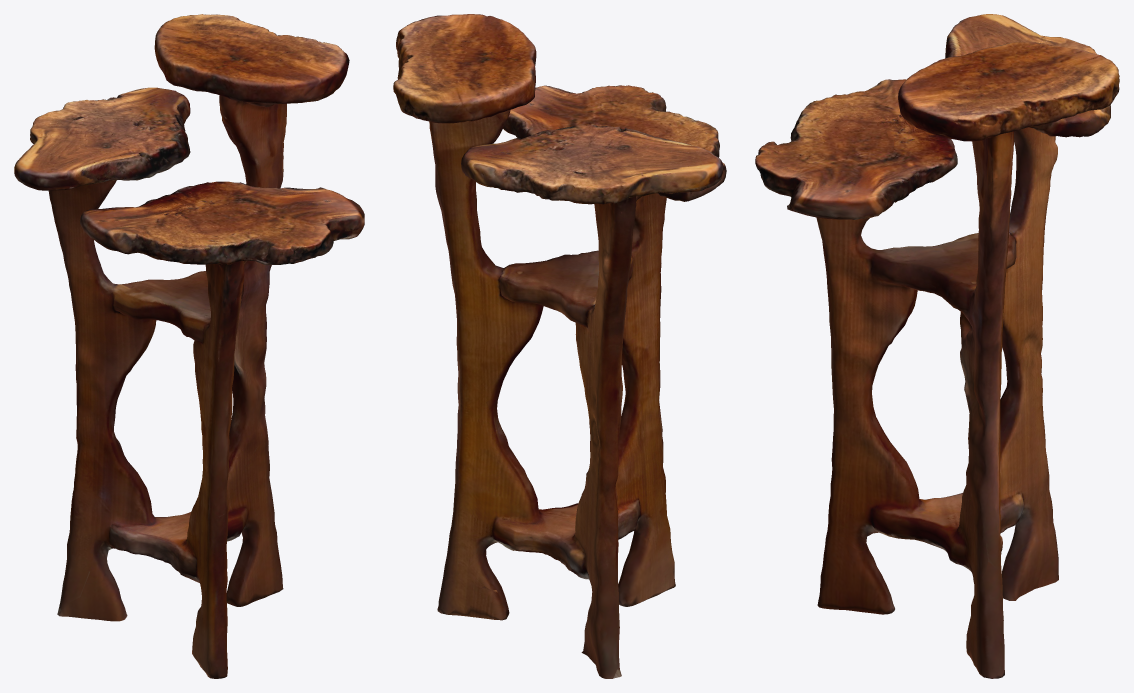
File: plant_table_no_floor_new.glb
3 renders of one model, left to right at view 1: azimuth 30°, elevation 25°; view 2: azimuth 150°, elevation 25°; view 3: azimuth 270°, elevation 25°, orthographic. The views are drawn at different scales.
Visible parts, largest first — view 1: Mesh_0; view 2: Mesh_0; view 3: Mesh_0.
Boxes of the visible parts, box(x1,y1,x2,y2) form: Mesh_0: box(14, 14, 364, 678); Mesh_0: box(393, 14, 726, 678); Mesh_0: box(755, 14, 1119, 678).
Size of the model in its own units: 0.5472 by 0.8969 by 0.5051.
Materials: 1 (1 with a texture image).
